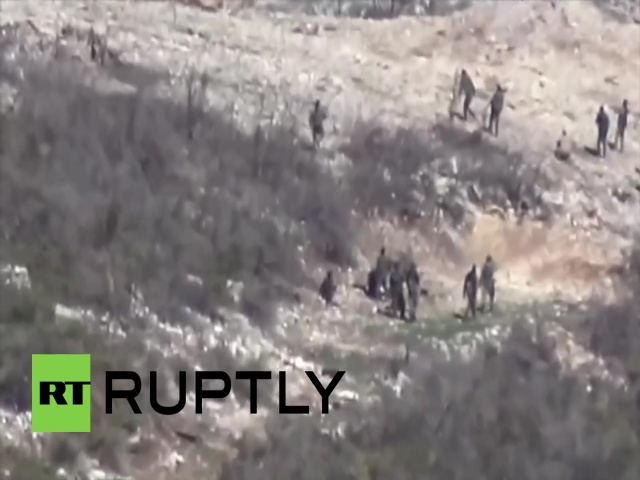person: (307, 98, 331, 158), (455, 65, 478, 126), (368, 243, 388, 306), (404, 261, 423, 325), (387, 260, 406, 323), (480, 252, 498, 314), (487, 84, 506, 141), (613, 99, 630, 155), (462, 262, 478, 321), (594, 103, 609, 158)
